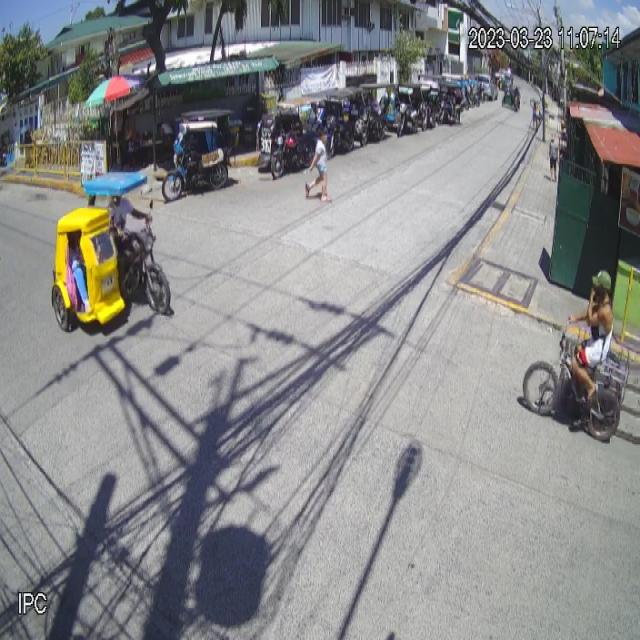Tricycle: (52, 170, 171, 332)
